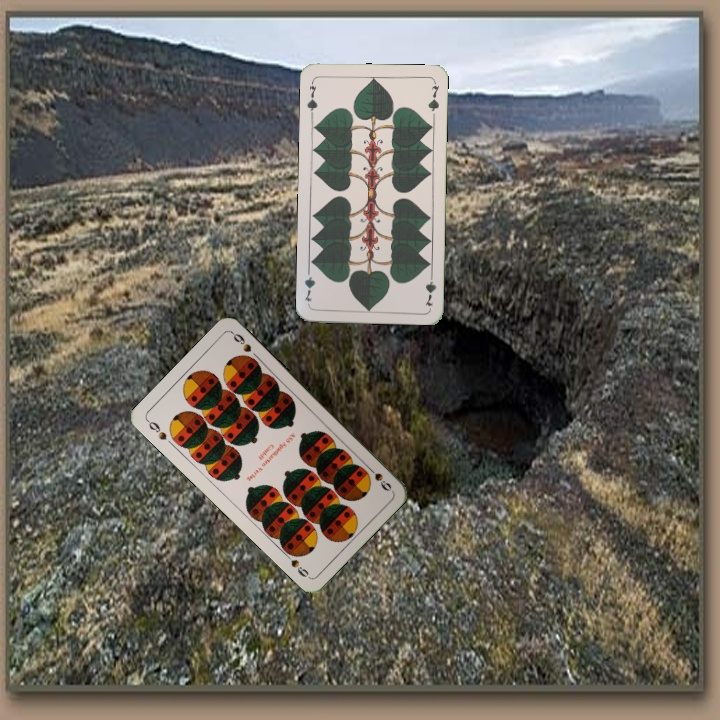G7: (421, 268, 439, 309), (303, 77, 320, 118)
S9: (362, 461, 394, 494), (143, 416, 169, 443)
